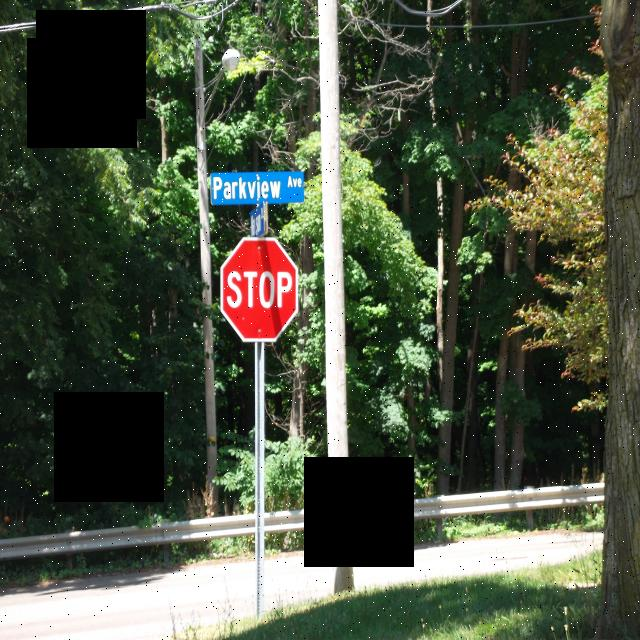stop: (216, 227, 302, 349)
